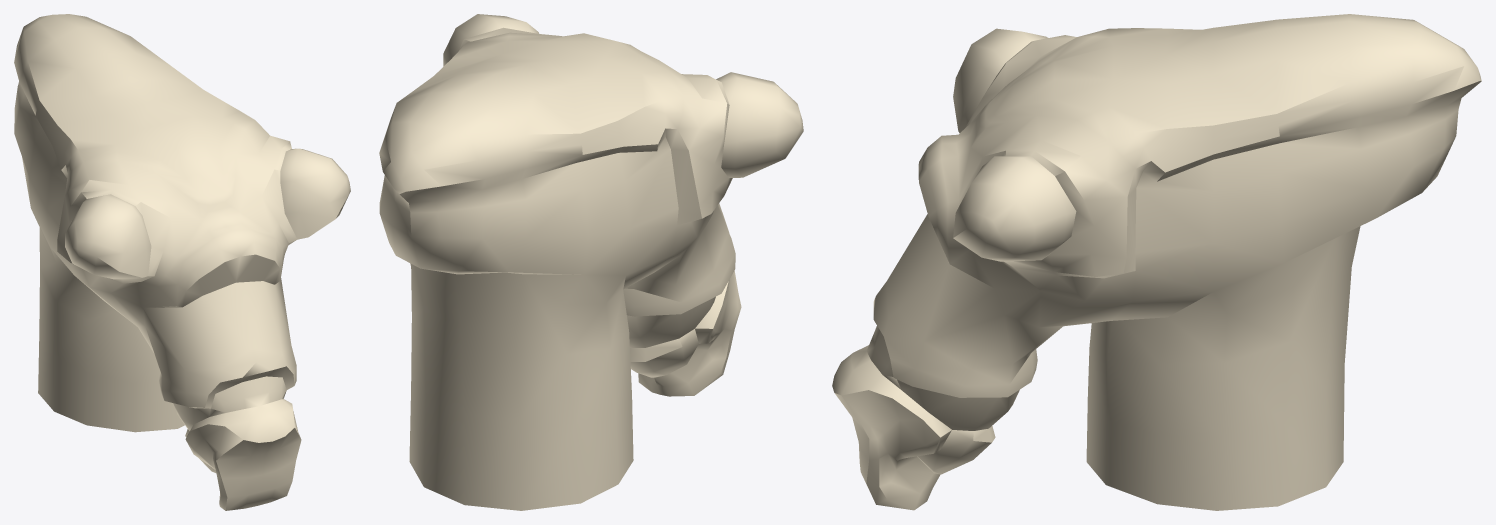
File: Geonosian.dae
3 renders of one model, left to right at view 1: azimuth 30°, elevation 25°; view 2: azimuth 150°, elevation 25°; view 3: azimuth 270°, elevation 25°, orthographic. The views are drawn at different scales.
Parts seen in each view (by area): view 1: Object; view 2: Object; view 3: Object.
Boxes of the visible parts, x1,y1,x2,y2 form: Object: (14, 14, 350, 510); Object: (379, 14, 803, 510); Object: (832, 14, 1481, 510).
Size of the model in its own units: 12.29 by 18.74 by 15.18.
